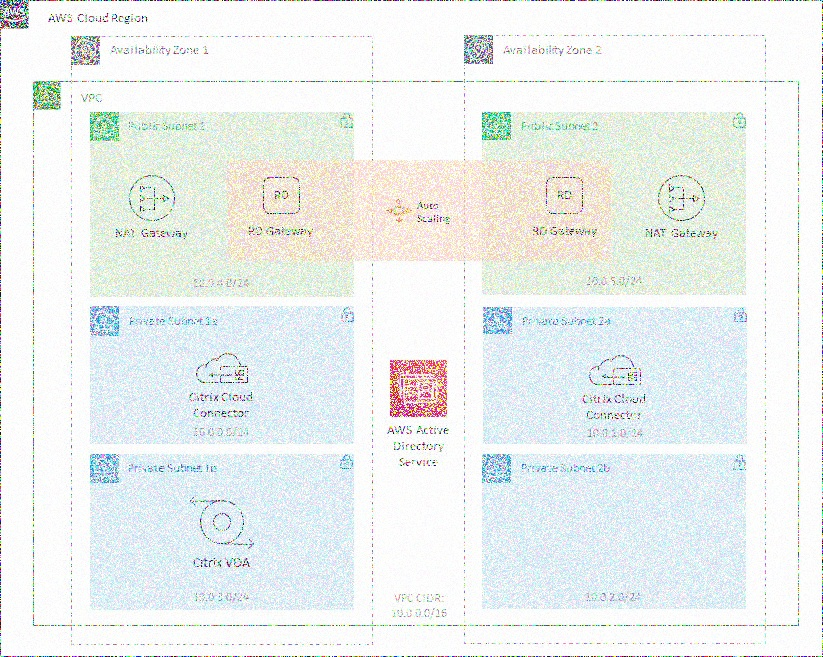Active Directory Service: (390, 357, 448, 418)
Auto Scaling: (385, 190, 414, 226)
Availability Zone: (463, 35, 495, 66), (72, 33, 100, 66)
Cloud Connector: (187, 344, 260, 389), (583, 348, 647, 391)
NAT Gateway: (125, 167, 179, 224), (655, 170, 708, 224)
Private Subnet: (480, 453, 512, 483), (483, 303, 513, 334), (90, 305, 120, 335), (89, 452, 119, 482)
Public Subnet: (89, 110, 120, 142), (482, 110, 511, 139)
VDA: (185, 487, 259, 553)
aws: (0, 0, 29, 28)
